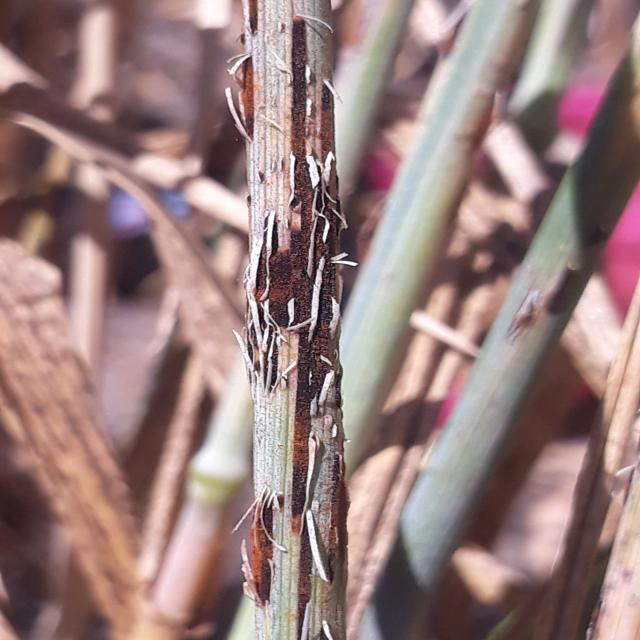black_stem_rust: (190, 0, 414, 640), (432, 14, 640, 640)
